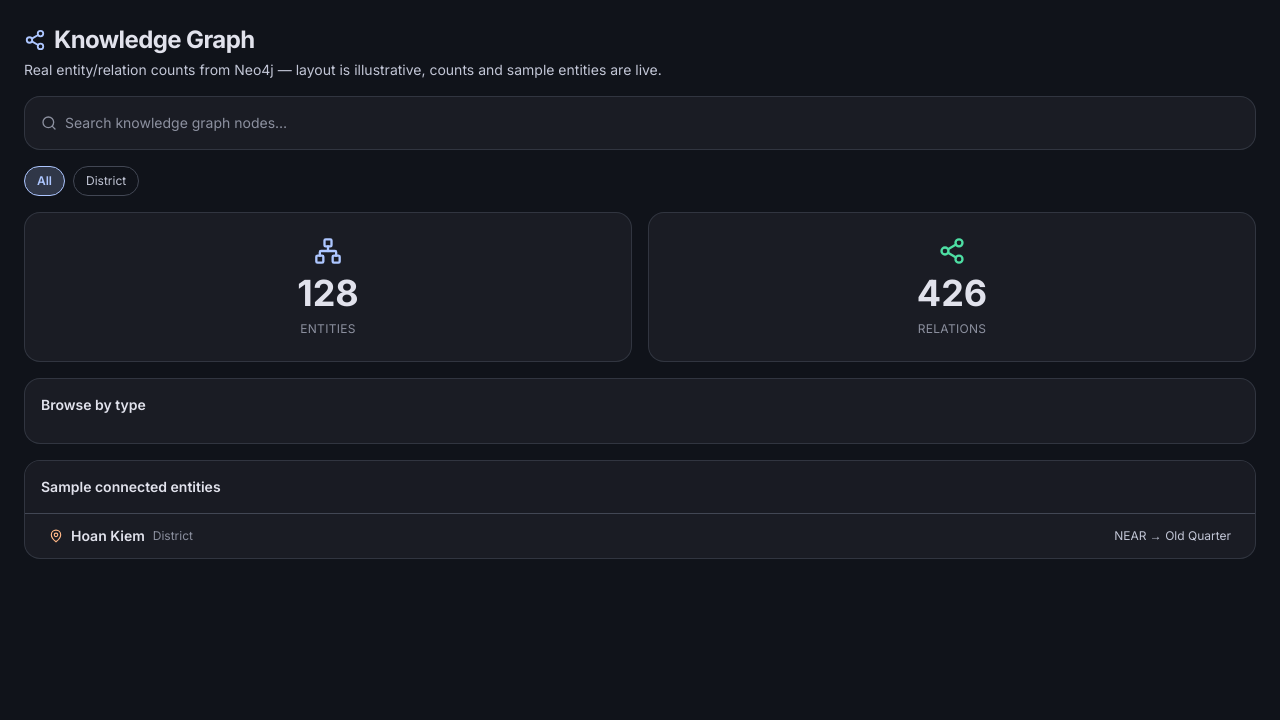
Test case: KnowledgeGraphPage › clicking a sample row opens a detail modal with that entity's full relation list
Check: the number of buttons with test id "knowledge-sample-row" is 1, box [25, 514, 1255, 558]
Click the text "Hoan Kiem": (108, 536) [71, 526, 145, 546]
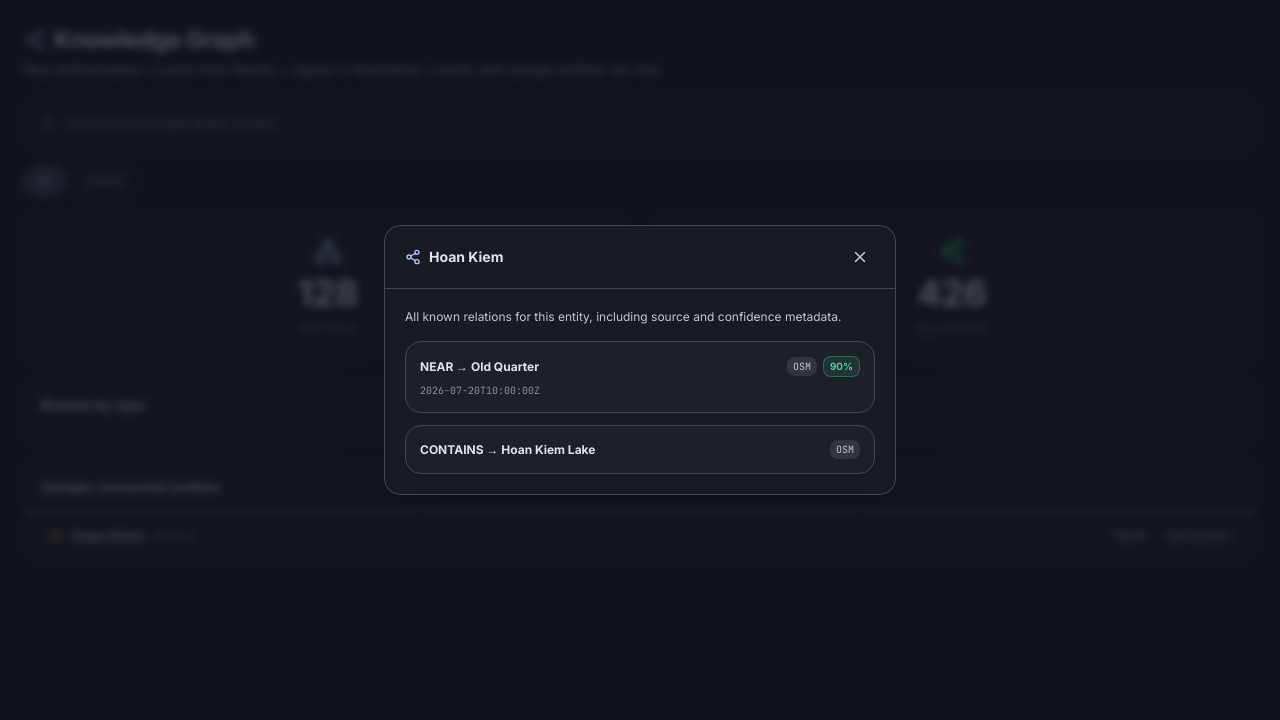
Check: the dialog with test id "knowledge-entity-modal" is shown, box [384, 225, 896, 495]
Check: the number of list items with test id "knowledge-entity-relation-row" is 2, box [405, 341, 875, 413]; [405, 425, 875, 474]
Check: the text "CONTAINS → Hoan Kiem Lake" is shown, box [420, 442, 596, 458]
